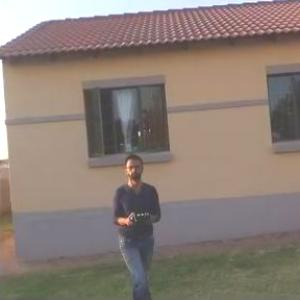follow: (108, 149, 163, 299)
